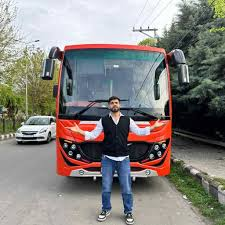bus: (42, 44, 191, 182)
